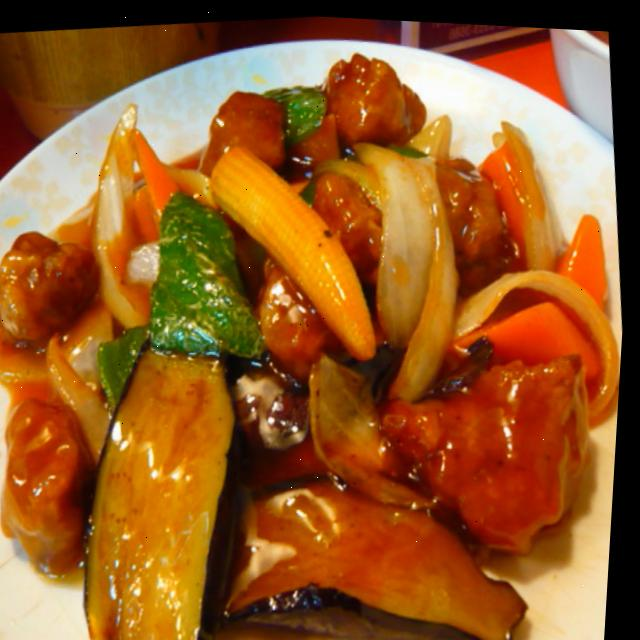猪肉菜式: (0, 3, 640, 640)
